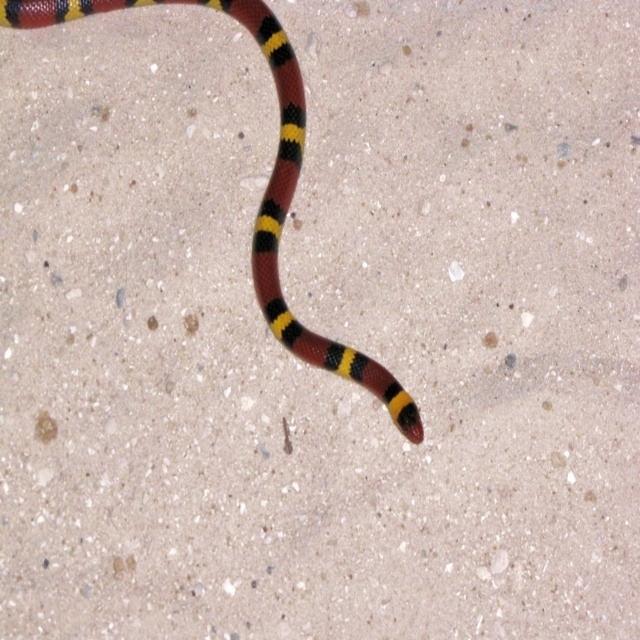Snake: (0, 0, 424, 445)
